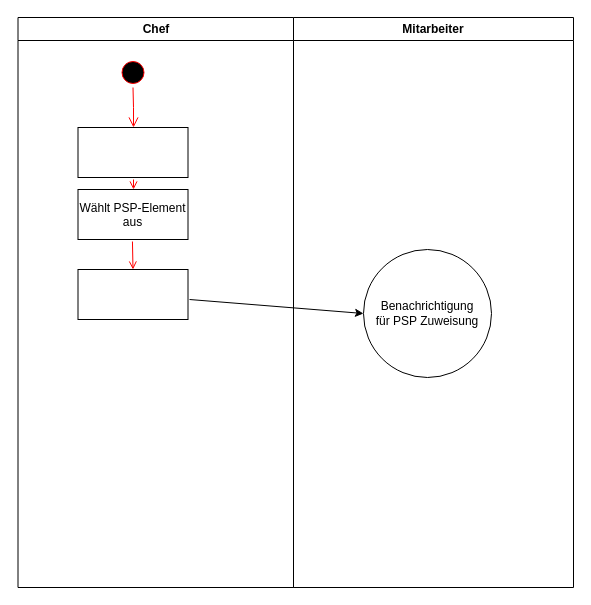
The diagram is 591 pixels wide and 605 high, and some of its shapes have lost their labels. The centre of each missing label's shape, as x and y in pixels:
Sucht nach PSP- Element: the point at 132,152
weißt Mitarbeiter zu: the point at 132,294
